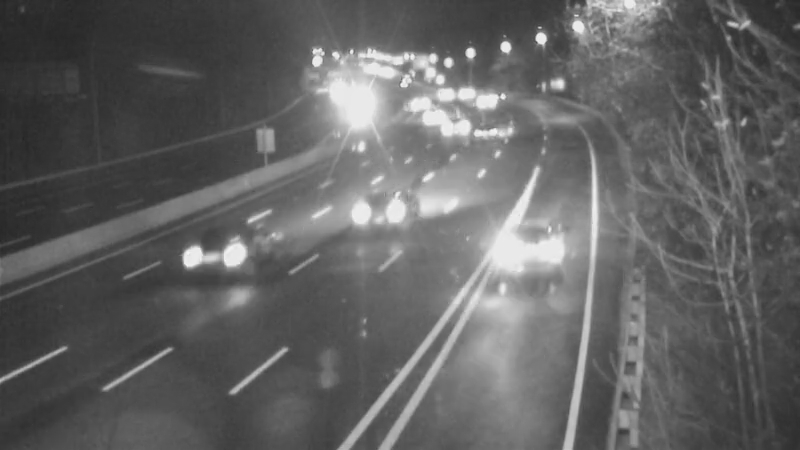vehicle: (344, 175, 424, 255), (184, 210, 264, 290), (491, 217, 571, 297), (417, 68, 467, 118), (460, 77, 510, 127), (389, 81, 439, 131), (401, 94, 451, 144), (426, 98, 476, 148), (458, 106, 508, 156)
